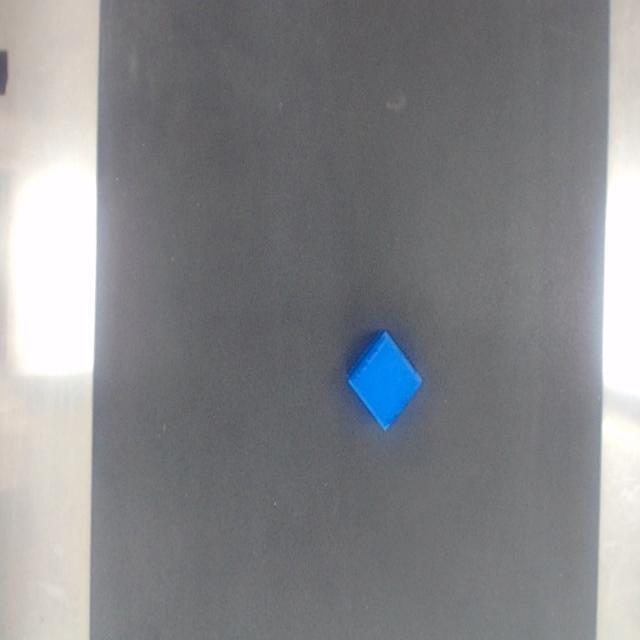Azul: (348, 331, 421, 429)
